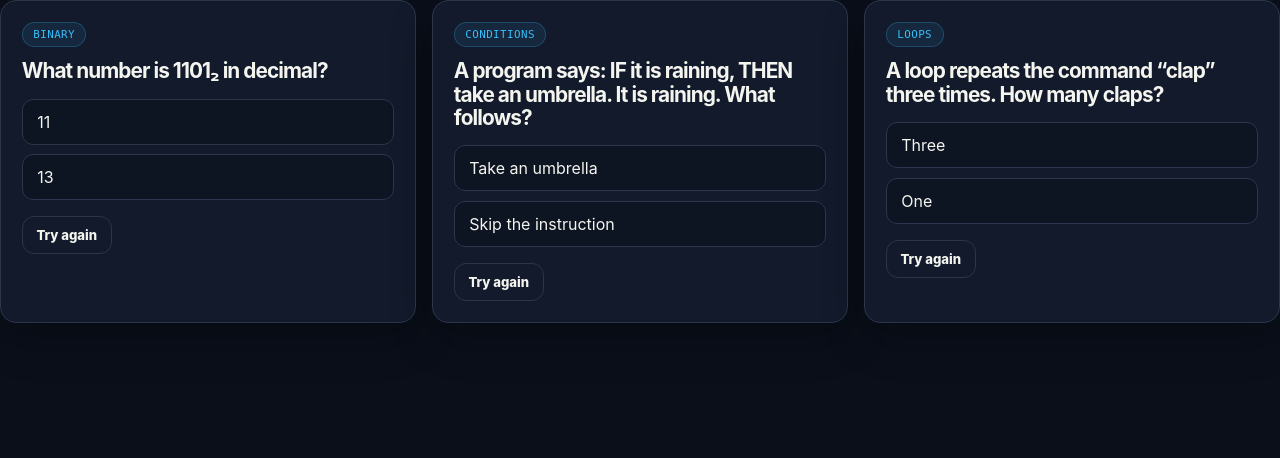
Scenario: CodingChallenges › evaluates the conditions prompt correctly
Click the button "Take an umbrella": (533, 168) [454,145,826,191]
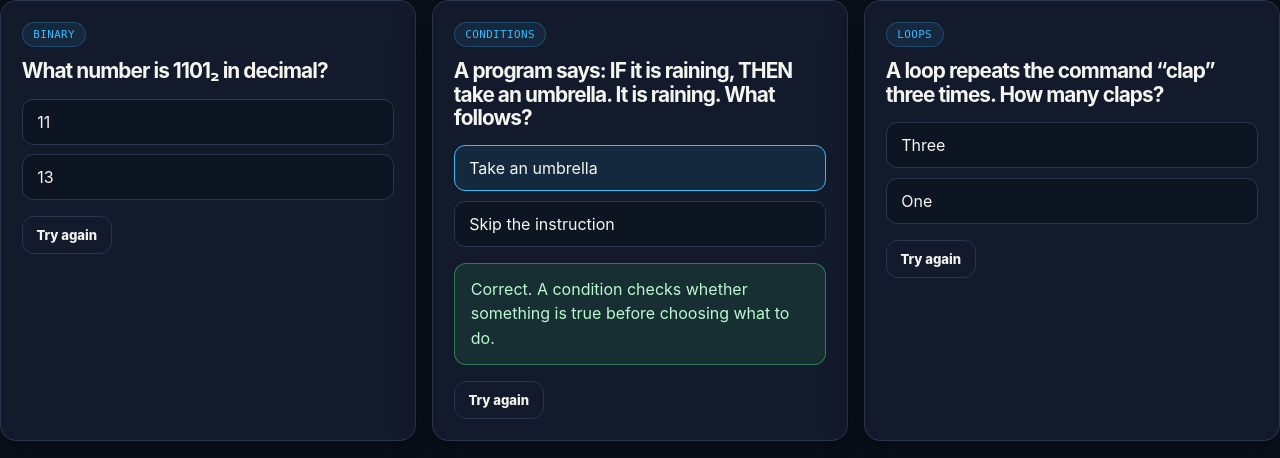
expect the message shows "Correct": met, box [471,279,537,299]
